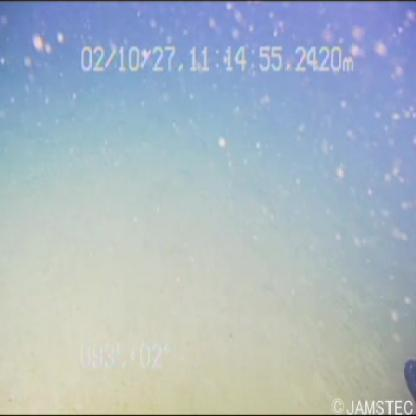Rác: (396, 354, 416, 403)
